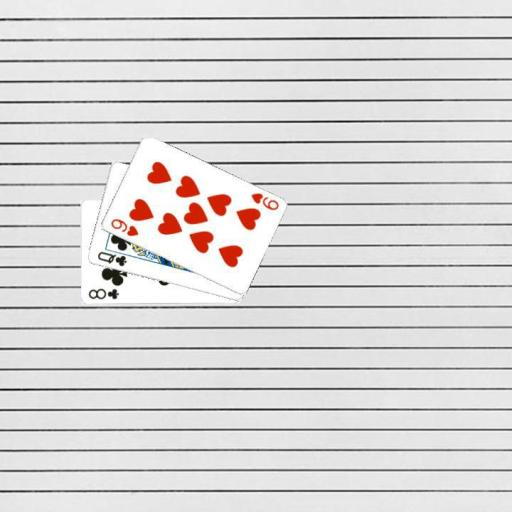8C: (86, 286, 121, 301)
9H: (108, 216, 140, 239), (248, 190, 280, 212)
QC: (94, 248, 128, 268)
